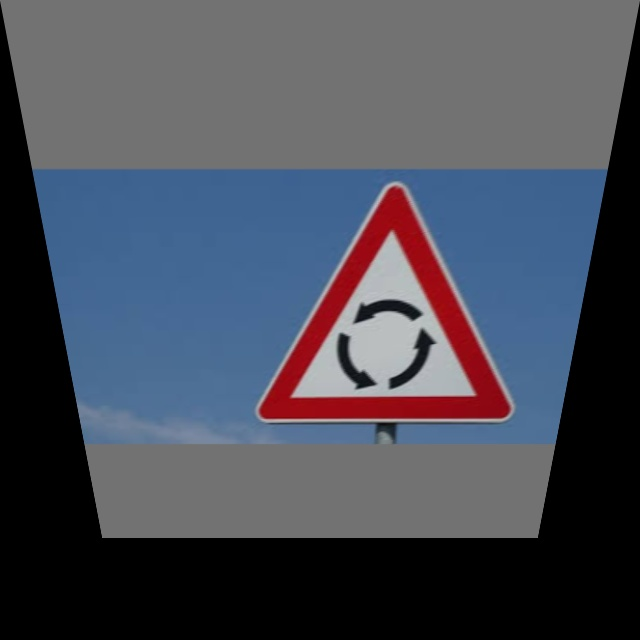Round_About: (249, 176, 537, 421)
